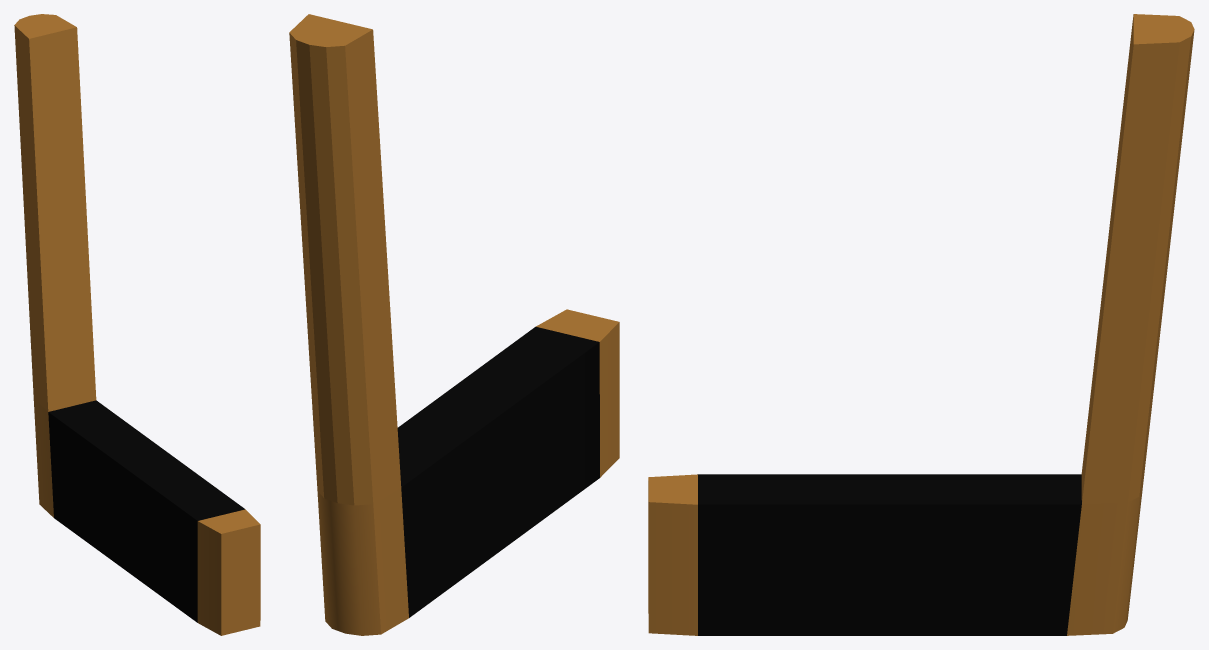
File: left stick.fbx
3 views of the same model, side by side, from view 1: azimuth 30°, elevation 25°; view 2: azimuth 150°, elevation 25°; view 3: azimuth 270°, elevation 25° (orthographic). The views are drawn at different scales.
Visible parts, largest first — view 1: left stick; view 2: left stick; view 3: left stick.
Part boxes in pixels (left/top/right/bottom): left stick: left=14, top=14, right=260, bottom=635; left stick: left=289, top=14, right=619, bottom=635; left stick: left=648, top=14, right=1194, bottom=635.
Size of the model in its own units: 1.44 by 10.74 by 12.85.
